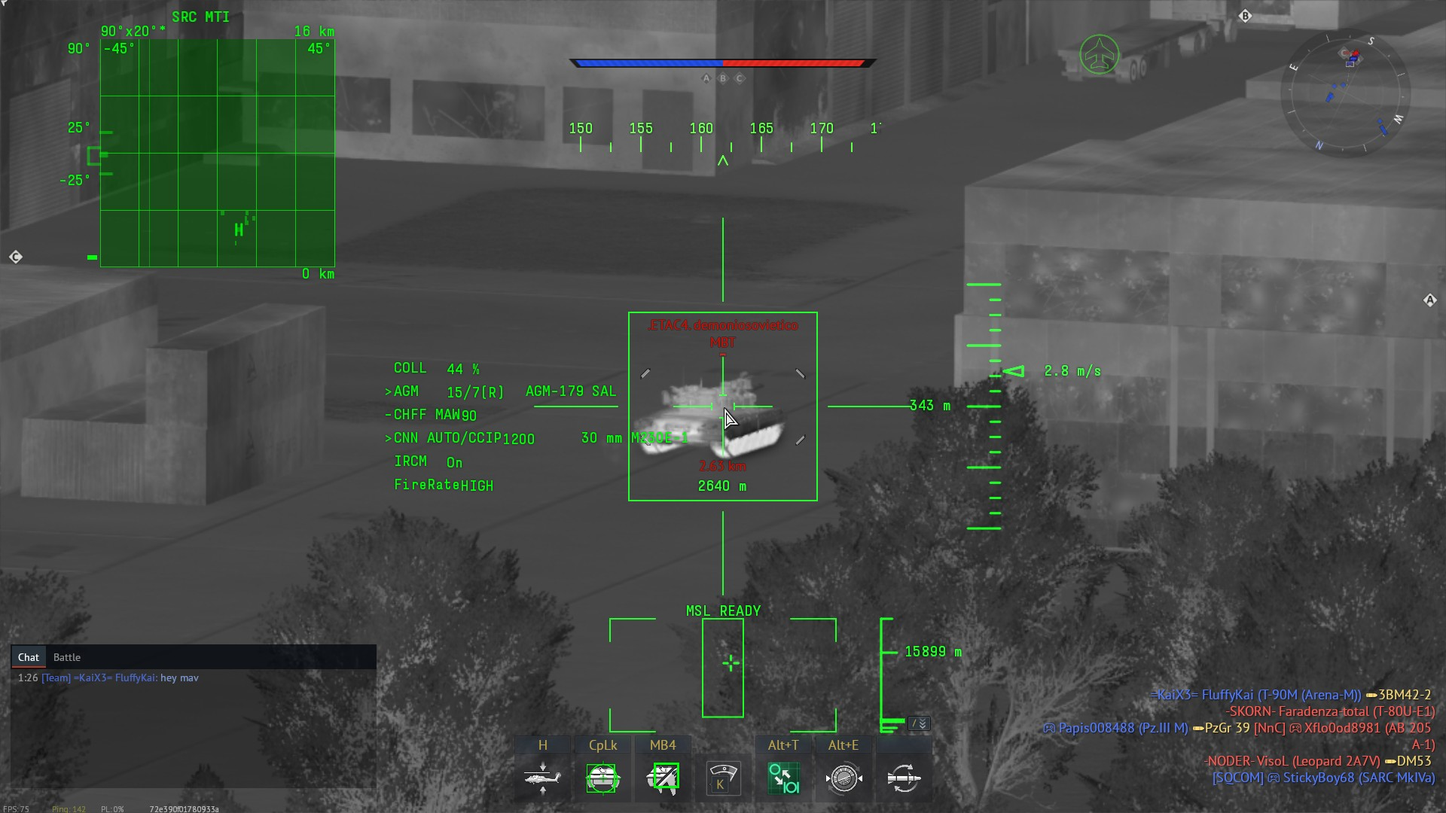t-80u: (632, 370, 785, 460)
